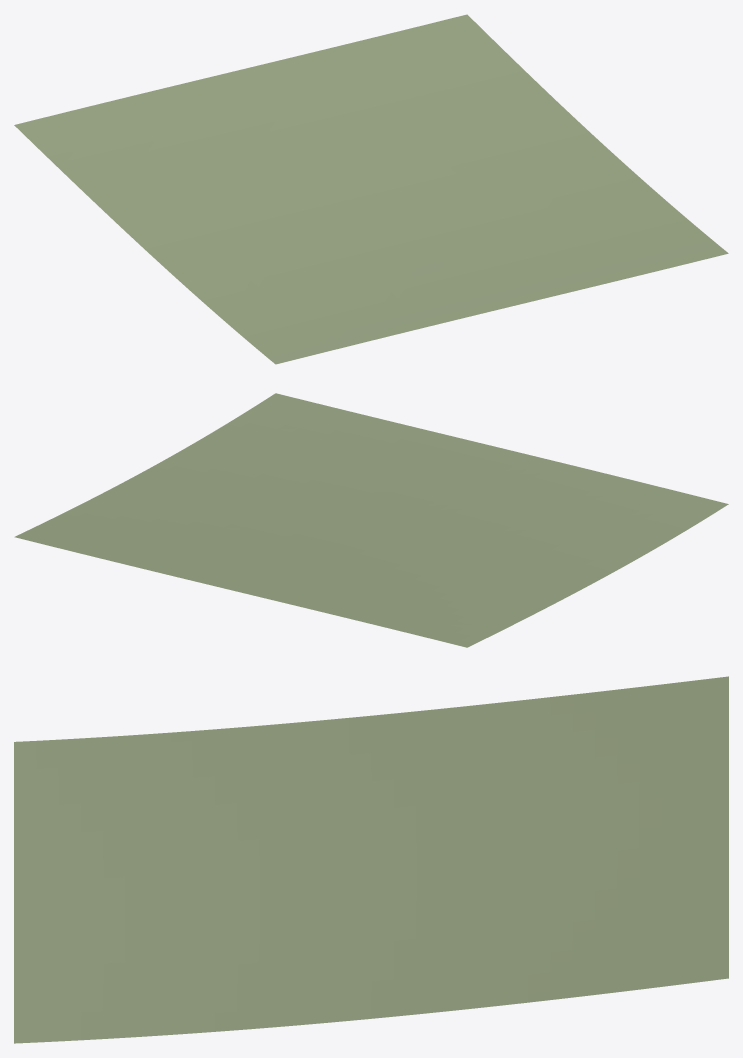
Rendered from desert-25-12.glb.
3 renders of one model, top to bottom at view 1: azimuth 30°, elevation 25°; view 2: azimuth 150°, elevation 25°; view 3: azimuth 270°, elevation 25°, orthographic. The views are drawn at different scales.
Parts seen in each view (by area): view 1: desert-25-12; view 2: desert-25-12; view 3: desert-25-12.
Part boxes in pixels (x1,y1,x2,y2): desert-25-12: (14,14,728,364); desert-25-12: (14,393,728,647); desert-25-12: (14,676,728,1043).
Bounding box in the file's own units: 512 × 52.05 × 512.
